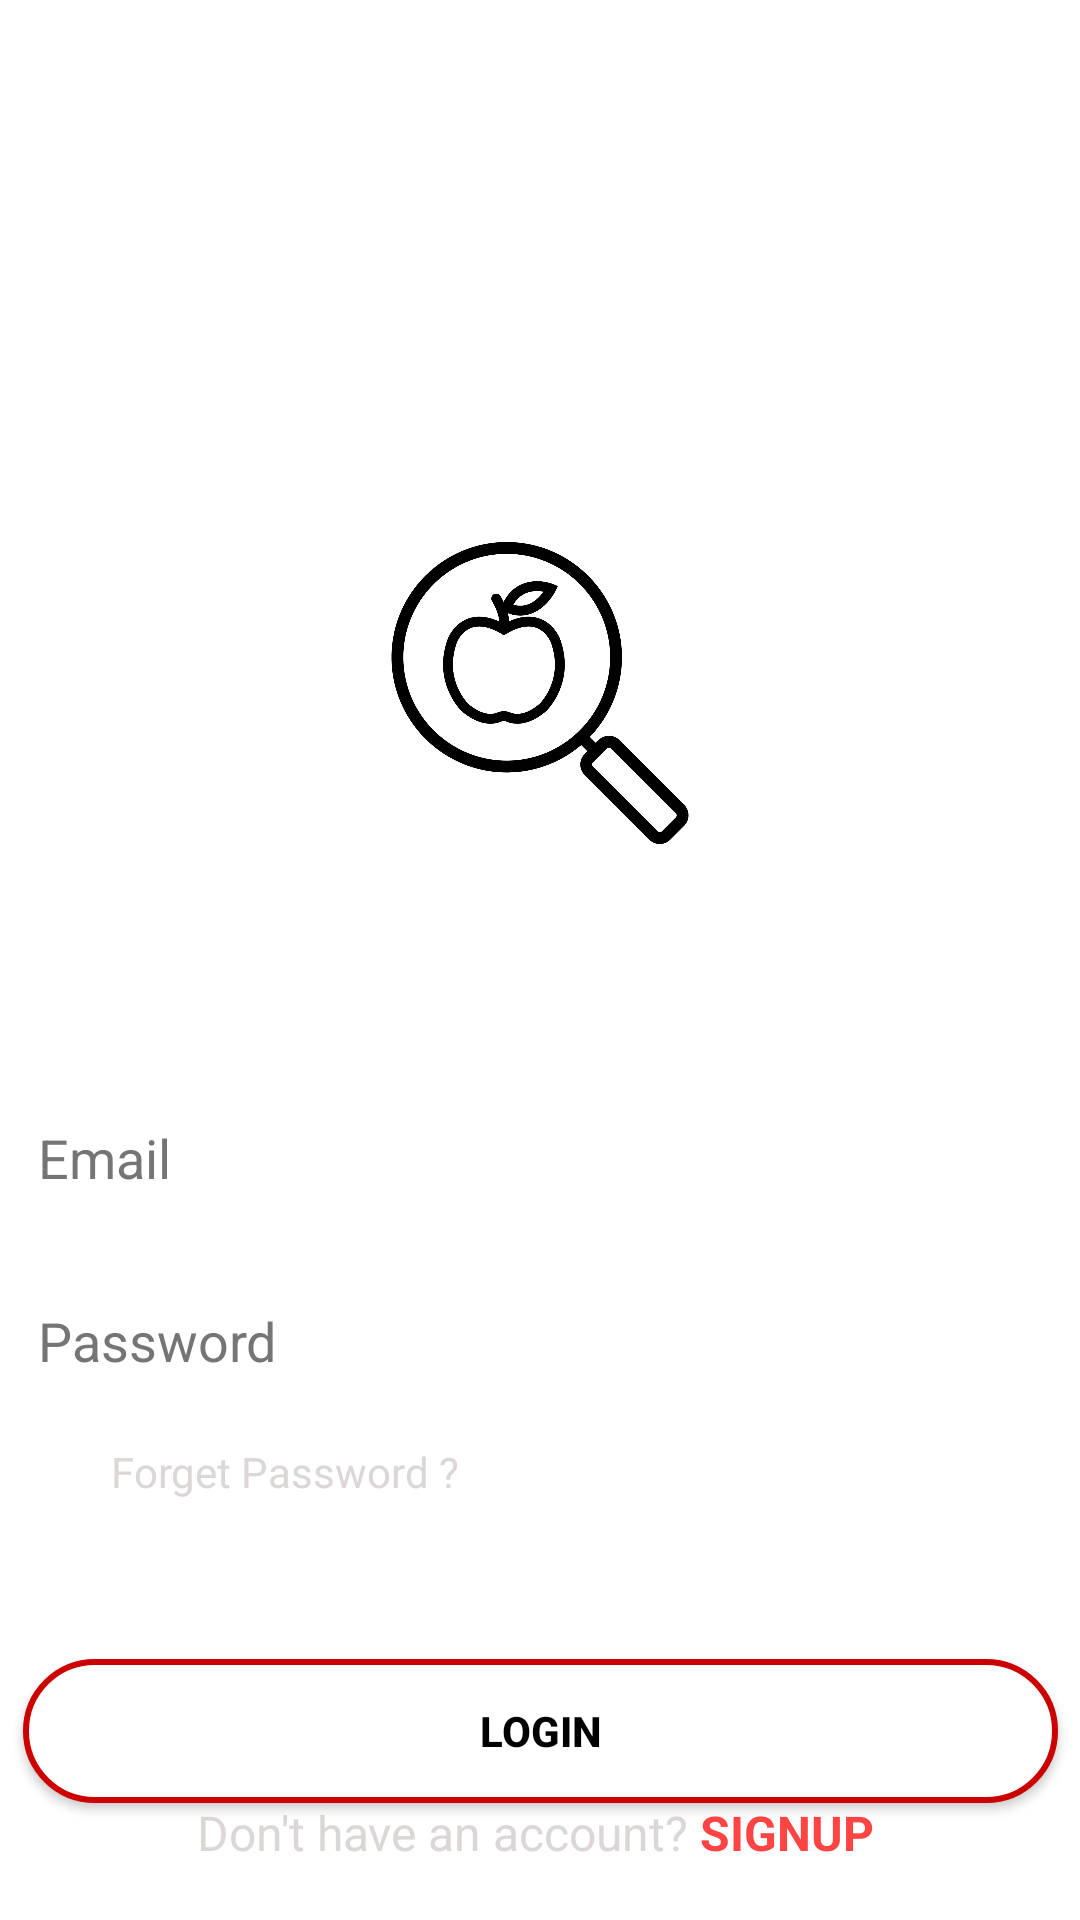

Named icons in this screenshot (1080px×1920px) and their centers, (x,y):
appicon: (540,693)
